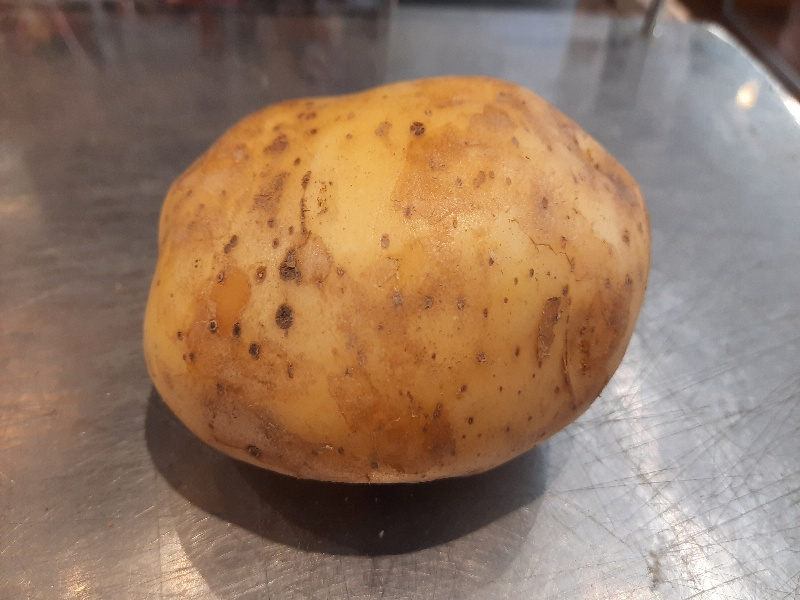vege: (143, 77, 656, 490)
